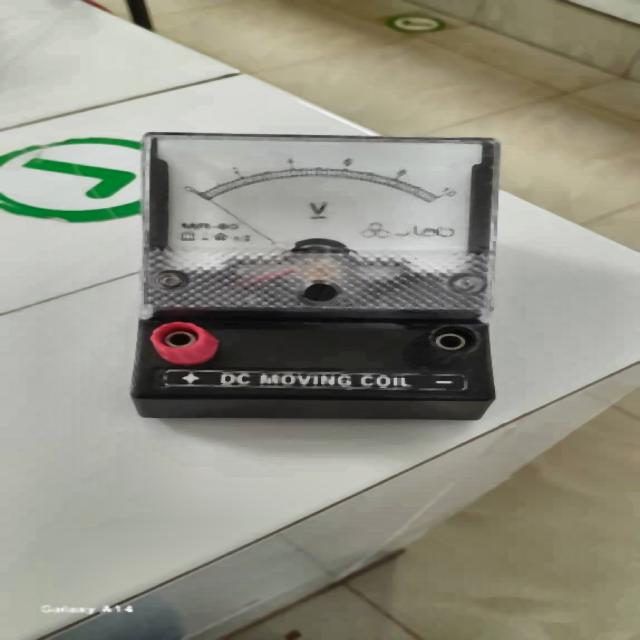Voltmeter: (123, 127, 521, 425)
